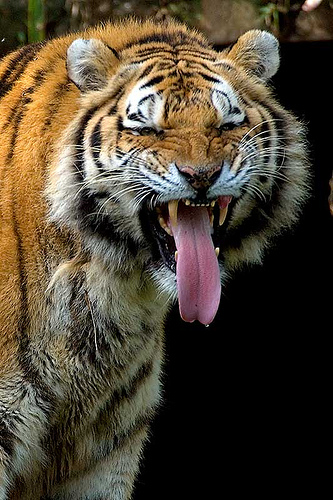Tigre: (24, 16, 331, 385)
